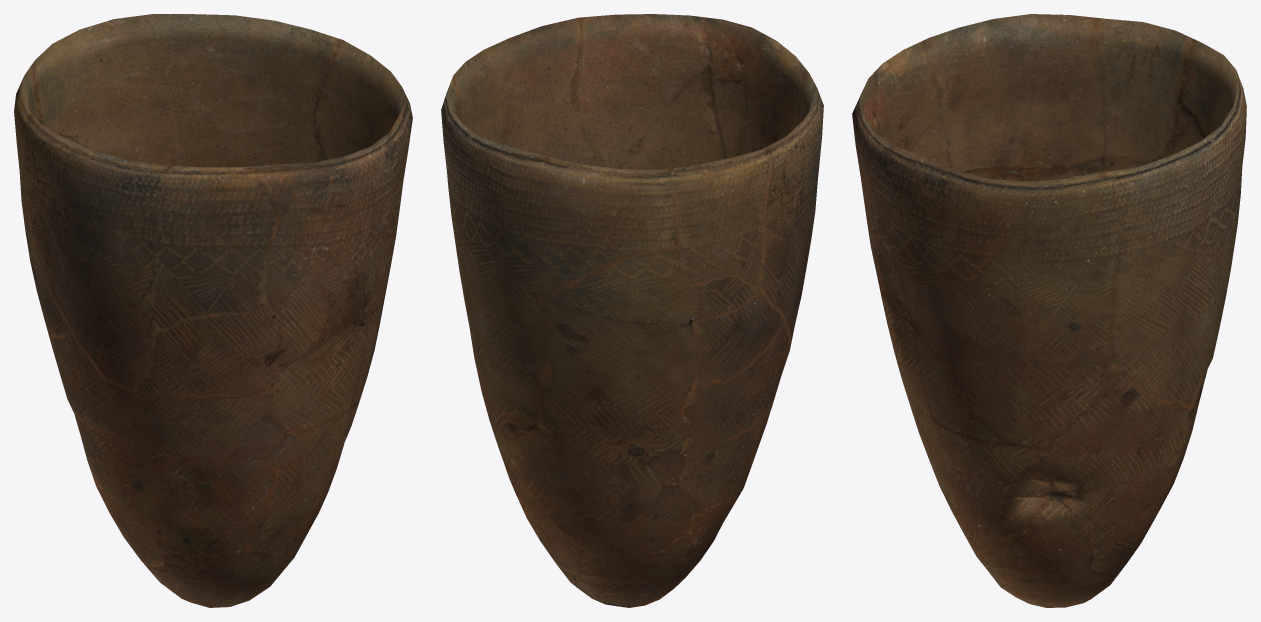
The model's file is Comb-pattern 1.fbx.
The picture shows the model from 3 angles, left to right: view 1: azimuth 30°, elevation 25°; view 2: azimuth 150°, elevation 25°; view 3: azimuth 270°, elevation 25°; orthographic projection.
Parts seen in each view (by area): view 1: comb pattern; view 2: comb pattern; view 3: comb pattern.
Boxes of the visible parts, <box> form: comb pattern: <box>14,14,412,607</box>; comb pattern: <box>441,14,823,607</box>; comb pattern: <box>852,14,1246,607</box>.
Size of the model in its own units: 26.07 by 37.98 by 26.65.
1 material, 1 textured.
